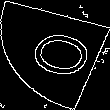O_E: (15, 26, 95, 84)
